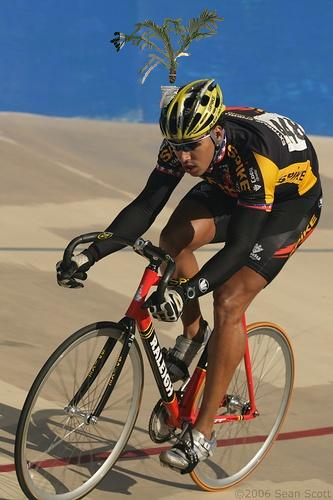tampered: (111, 8, 224, 108)
